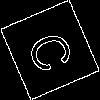C: (25, 25, 84, 77)
